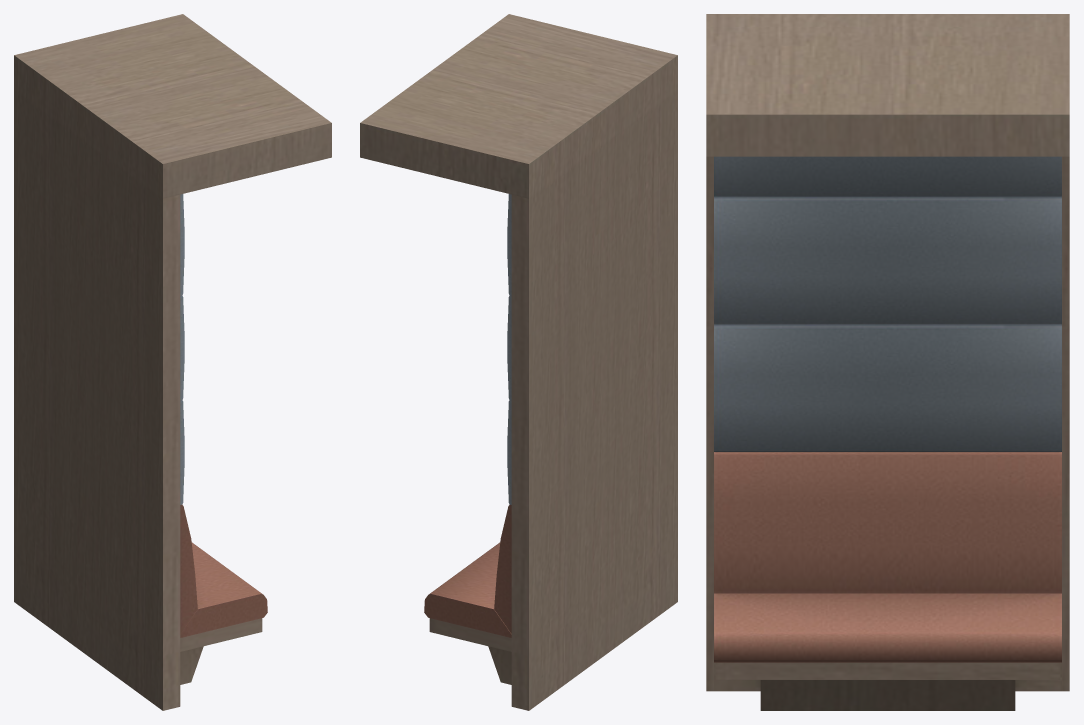
Rendered from MeetingSofa.gltf.
The picture shows the model from 3 angles, left to right: view 1: azimuth 30°, elevation 25°; view 2: azimuth 150°, elevation 25°; view 3: azimuth 270°, elevation 25°; orthographic projection. The views are drawn at different scales.
Visible parts, largest first — view 1: MeetingSofa; view 2: MeetingSofa; view 3: MeetingSofa.
Part boxes in pixels (x1,y1,x2,y2): MeetingSofa: (14, 14, 331, 710); MeetingSofa: (360, 14, 677, 710); MeetingSofa: (706, 14, 1069, 710).
Size of the model in its own units: 9.7 by 30 by 14.8.
1 material, 1 textured.
